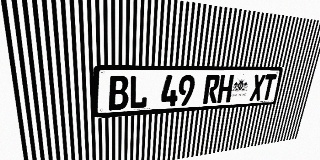4: (161, 75, 179, 107)
9: (177, 75, 196, 106)
B: (108, 75, 129, 111)
H: (217, 75, 234, 103)
L: (129, 75, 148, 109)
R: (203, 75, 220, 104)
T: (261, 74, 277, 100)
X: (249, 74, 266, 101)
